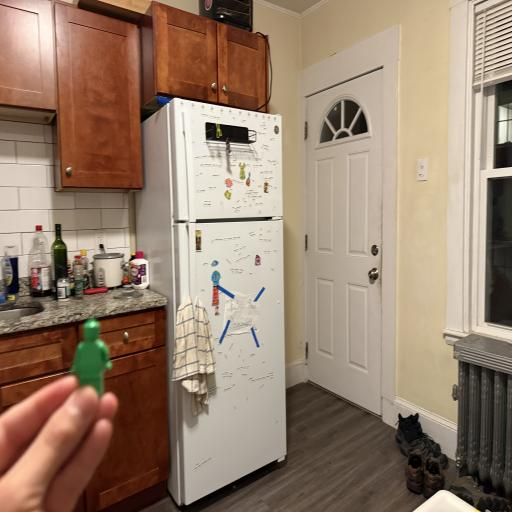Minifig: (71, 319, 112, 396)
